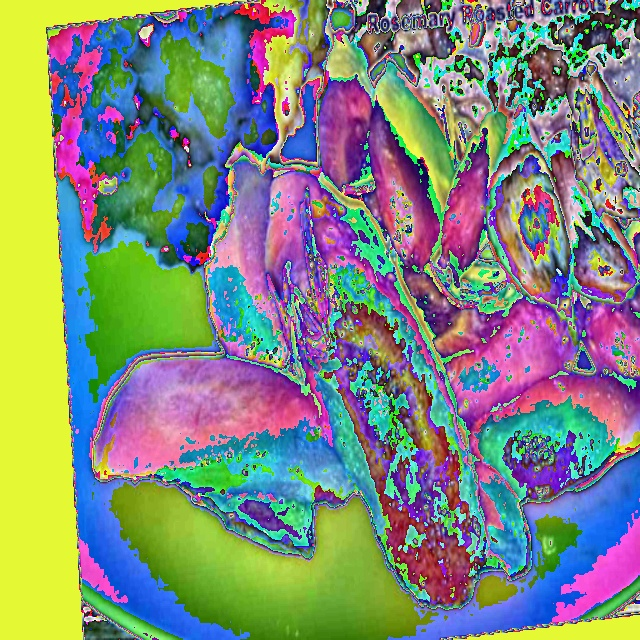background: (48, 0, 639, 609)
